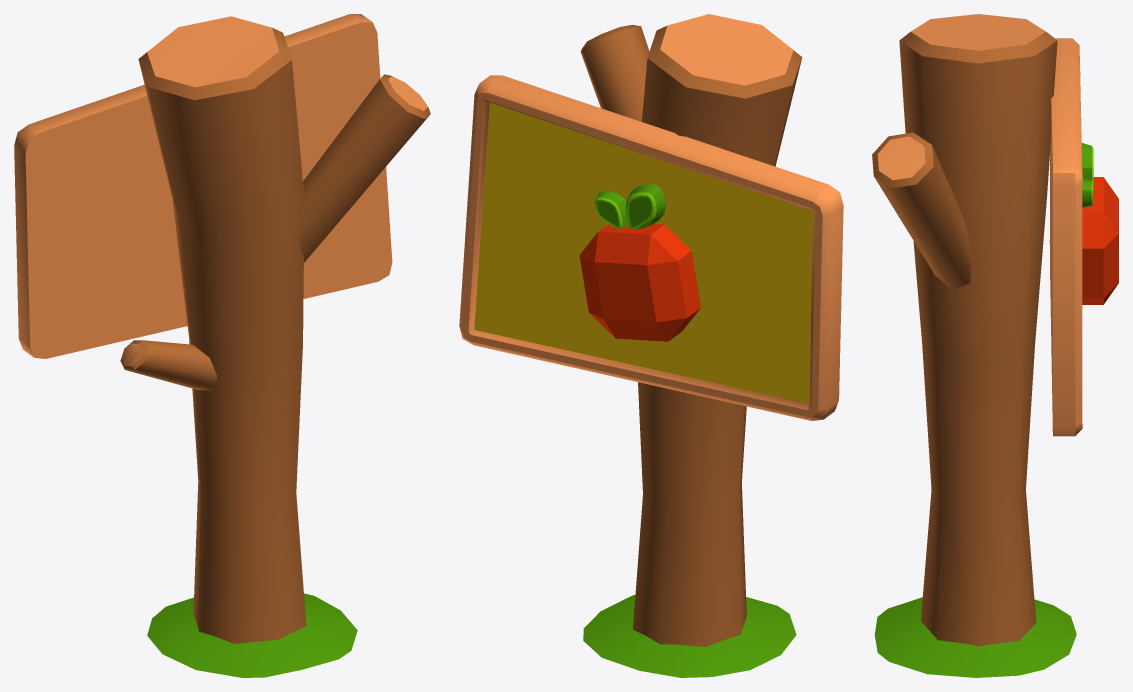
File: SignApple.fbx
3 views of the same model, side by side, from view 1: azimuth 30°, elevation 25°; view 2: azimuth 150°, elevation 25°; view 3: azimuth 270°, elevation 25° (orthographic).
Parts seen in each view (by area): view 1: SignApple_LOD0; view 2: SignApple_LOD0; view 3: SignApple_LOD0.
Boxes of the visible parts, x1,y1,x2,y2 form: SignApple_LOD0: (14,14,430,677); SignApple_LOD0: (459,14,843,677); SignApple_LOD0: (872,14,1118,677).
Size of what is drawn, in the model's own units: 47.84 by 74.24 by 27.94.
